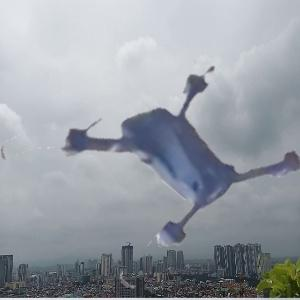drone: (17, 37, 278, 298)
